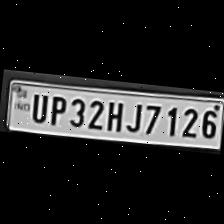1: (160, 104, 179, 136)
2: (176, 104, 198, 140), (84, 96, 106, 130)
3: (66, 94, 86, 128)
6: (198, 105, 219, 139)
7: (141, 102, 162, 136)
H: (103, 97, 125, 132)
J: (122, 99, 142, 133)
P: (46, 92, 66, 126)
U: (26, 90, 48, 124)
